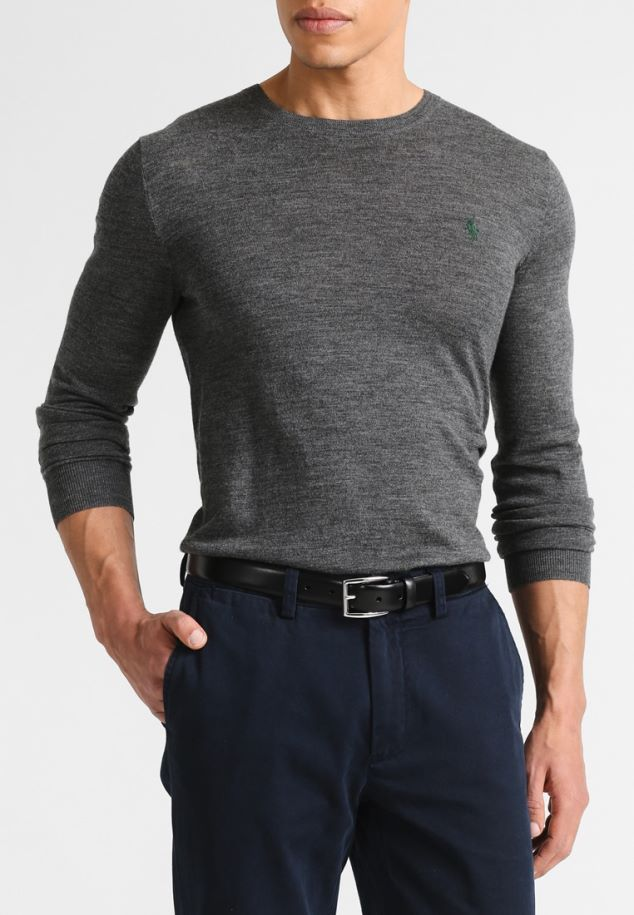F_belt: (160, 537, 511, 621)
F_dress pants: (166, 561, 547, 915)
